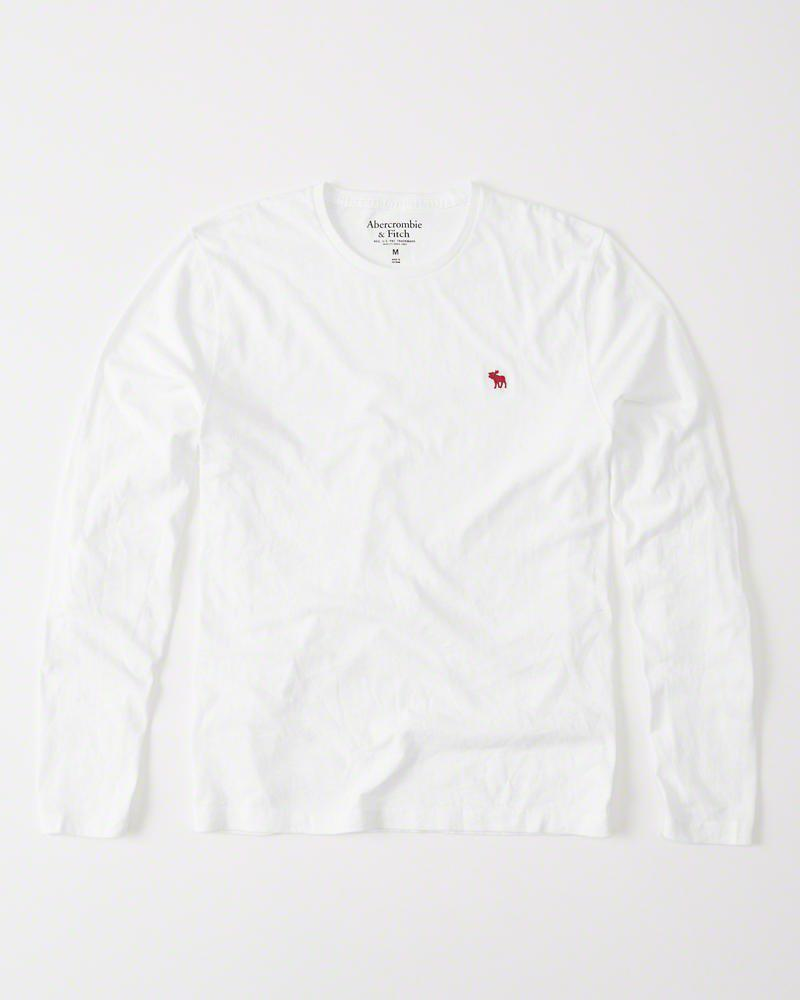teeshirt: (8, 165, 780, 916)
